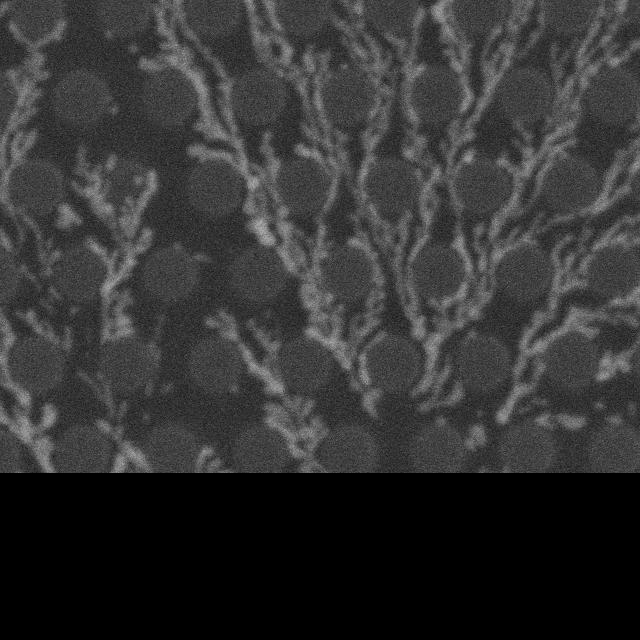Dendrite: (96, 0, 254, 174), (411, 183, 532, 410), (495, 238, 640, 423), (189, 134, 320, 303), (445, 0, 547, 211), (386, 12, 453, 318), (206, 311, 332, 473), (219, 0, 344, 162), (70, 149, 157, 342), (536, 78, 640, 238), (313, 0, 408, 151), (538, 0, 639, 125), (0, 14, 65, 200), (304, 279, 383, 415), (493, 123, 579, 229), (290, 140, 348, 267), (83, 375, 156, 473), (335, 153, 390, 258), (424, 0, 473, 116), (0, 309, 41, 447), (0, 191, 56, 287), (305, 300, 361, 394), (489, 0, 552, 74), (575, 214, 640, 258), (17, 309, 67, 345), (364, 253, 391, 317), (524, 413, 588, 434), (55, 203, 80, 230), (464, 426, 486, 451), (364, 161, 367, 163), (3, 325, 3, 326)
